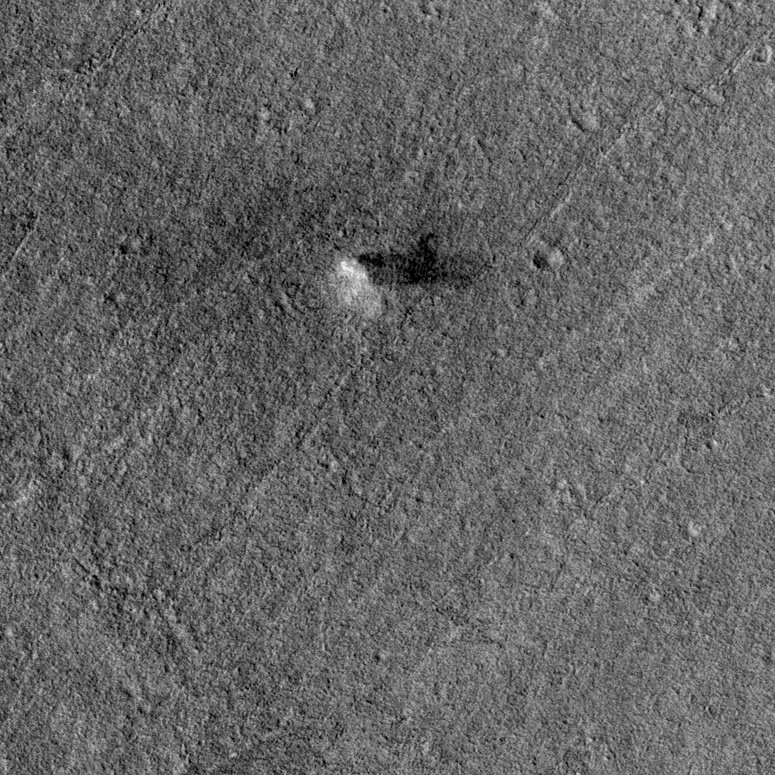dust_devil: (331, 230, 493, 326)
